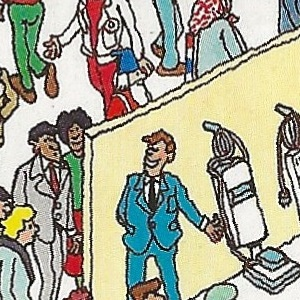Wizard Whitebeard: (106, 32, 194, 124)
